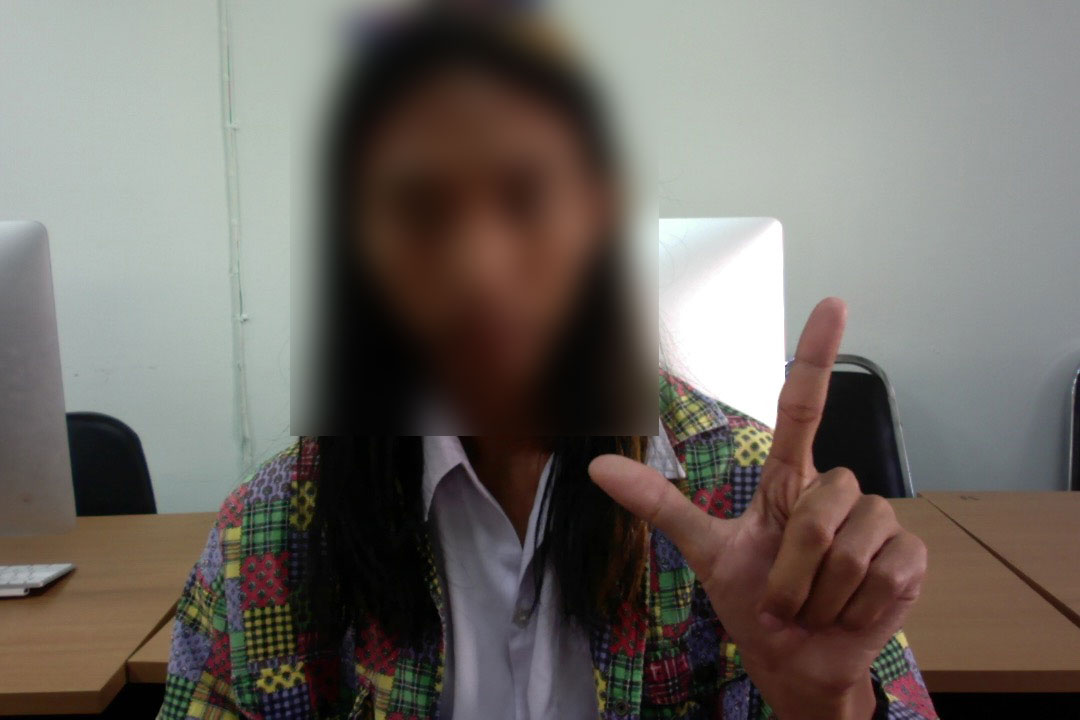lor: (567, 279, 952, 707)
